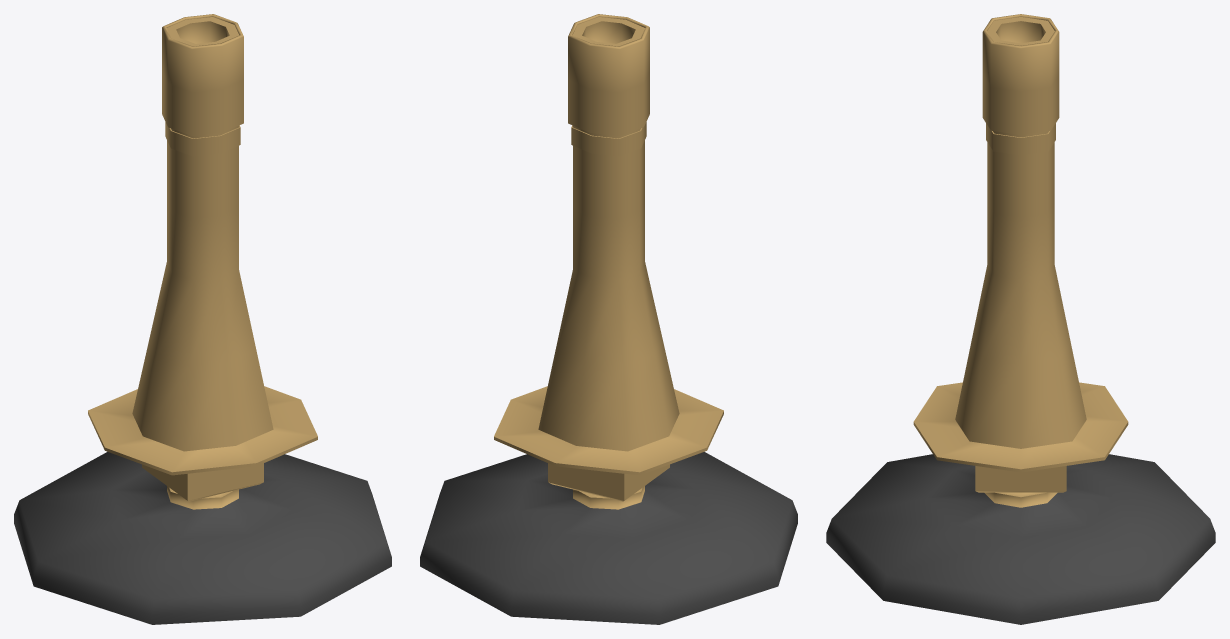
Rendered from brander.fbx.
3 views of the same model, side by side, from view 1: azimuth 30°, elevation 25°; view 2: azimuth 150°, elevation 25°; view 3: azimuth 270°, elevation 25° (orthographic).
Parts seen in each view (by area): view 1: Cube; view 2: Cube; view 3: Cube.
Boxes of the visible parts, bbox=[...] form: Cube: bbox=[14, 14, 391, 624]; Cube: bbox=[420, 14, 797, 624]; Cube: bbox=[826, 14, 1215, 624].
Size of the model in its own units: 119 by 173 by 119.
